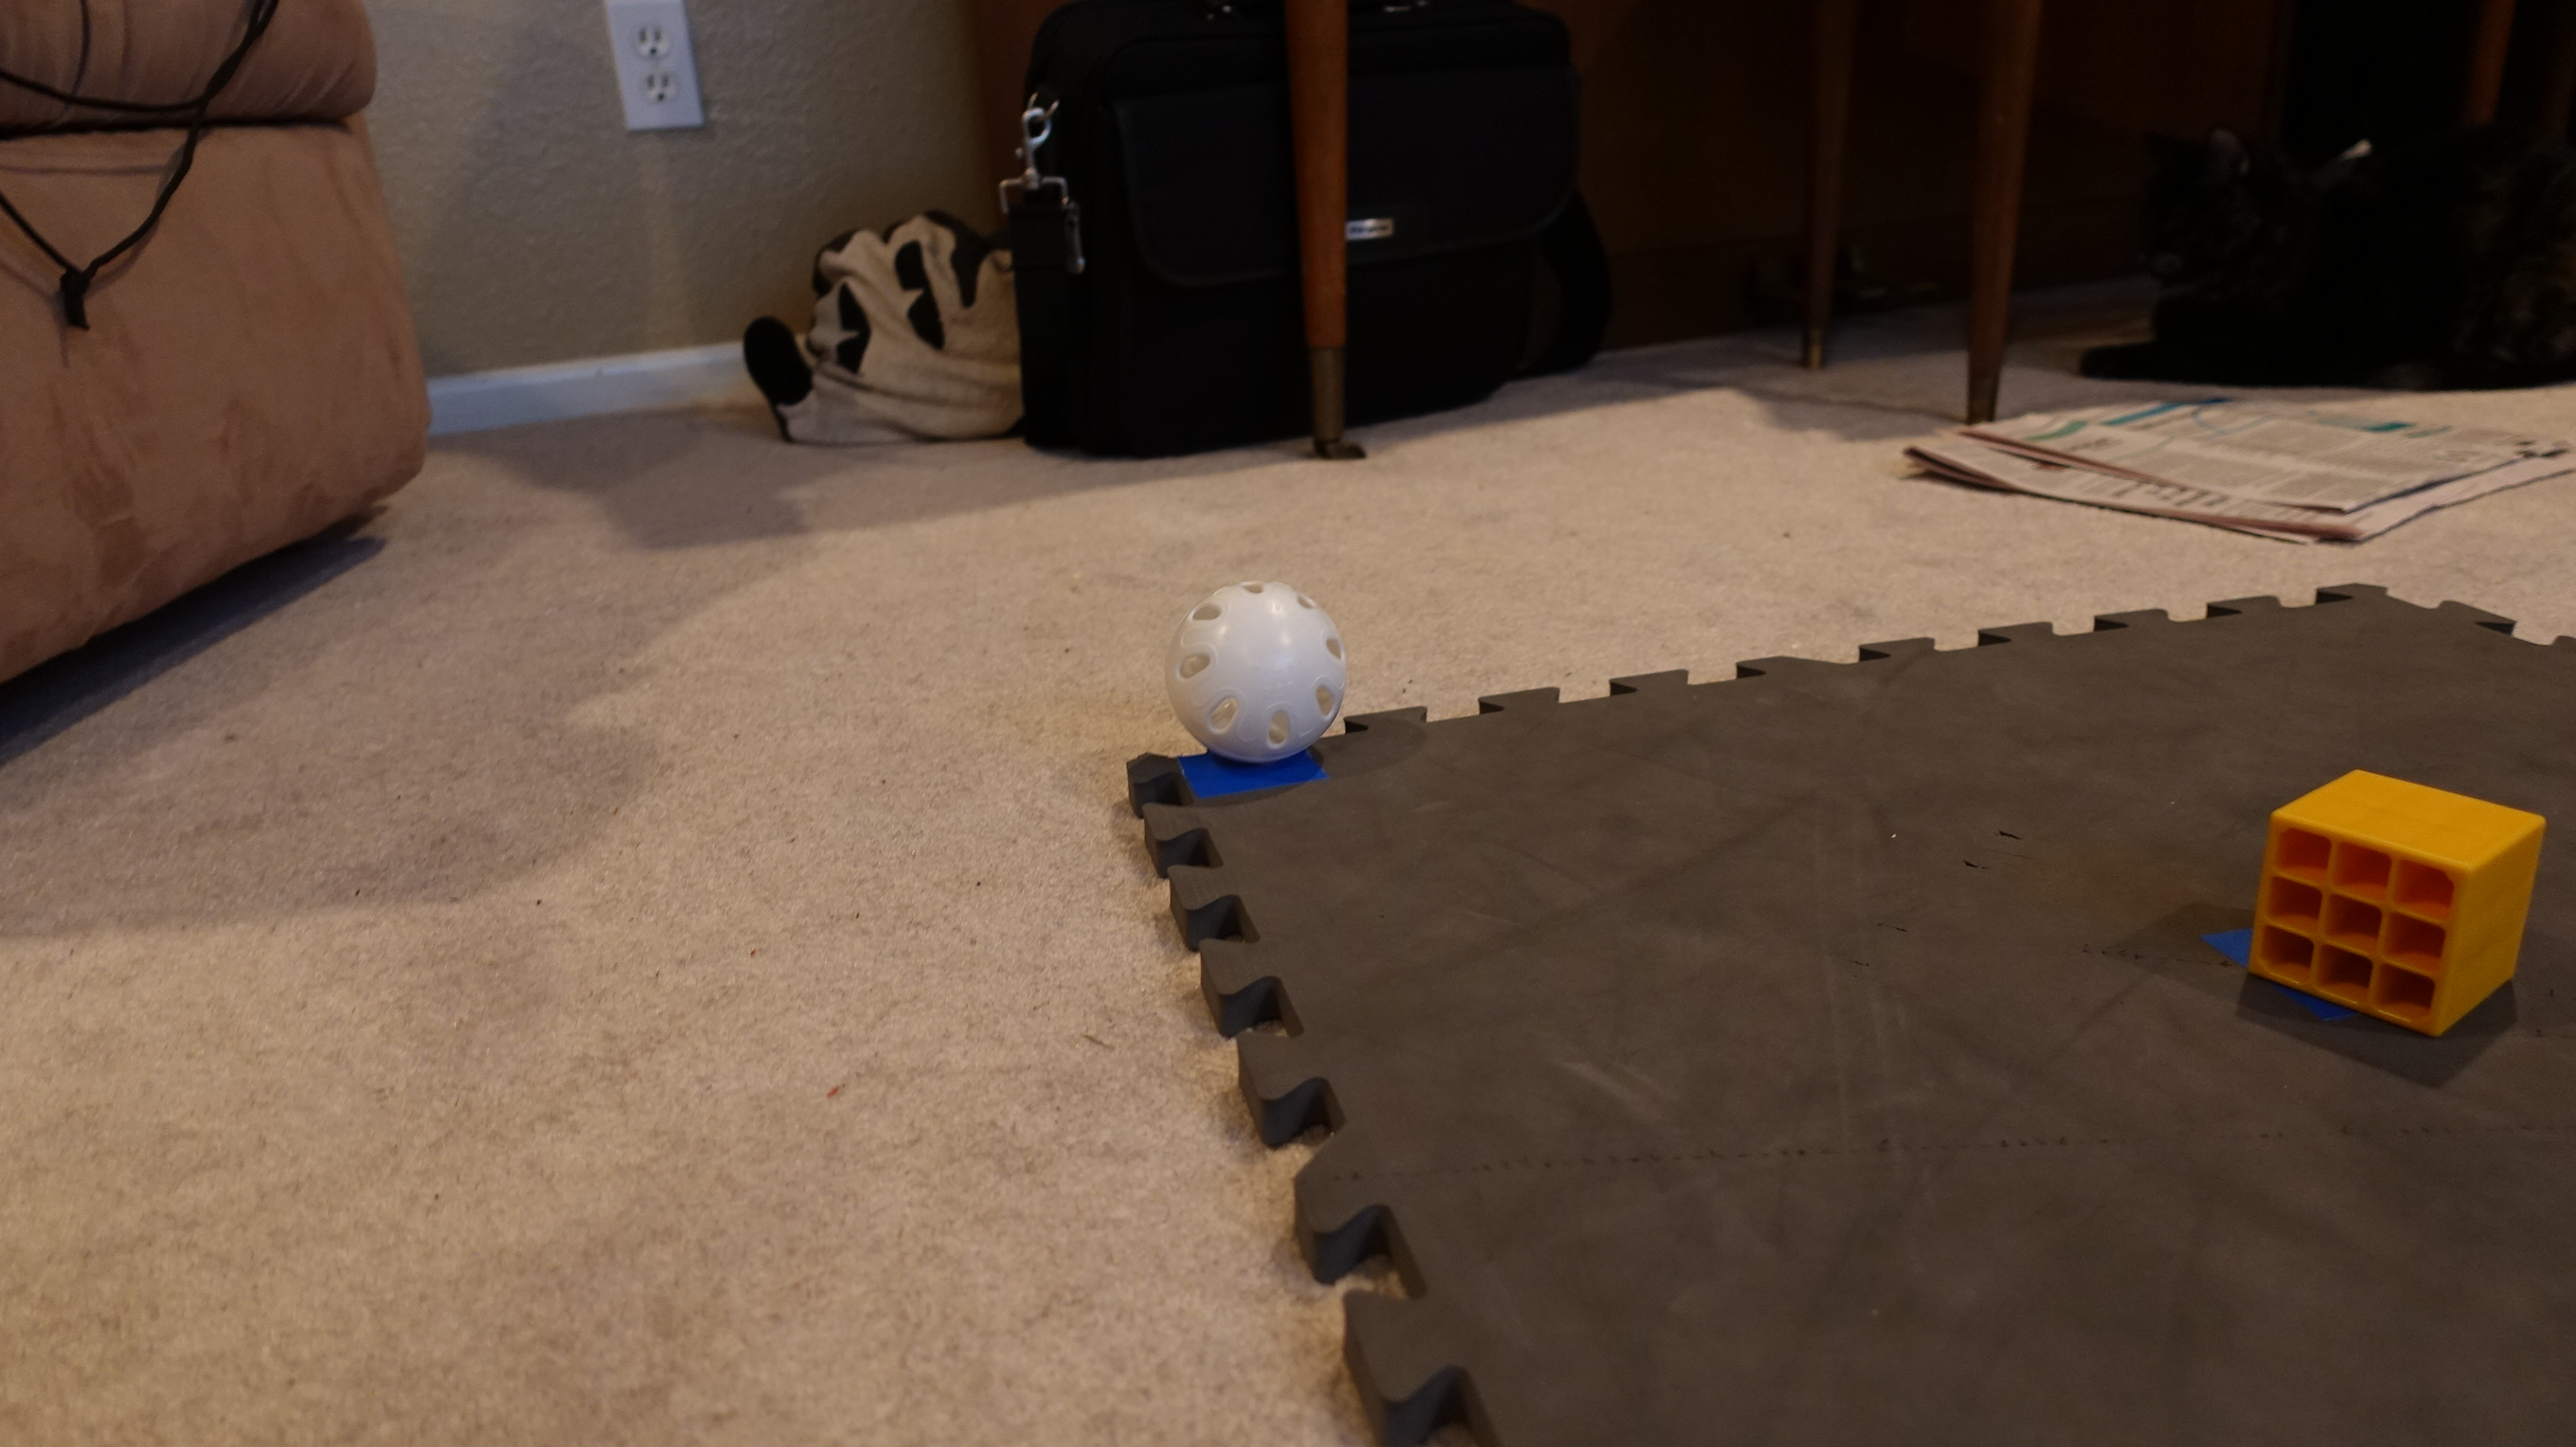gold: (2243, 748, 2553, 1042)
silver: (1152, 575, 1362, 771)
